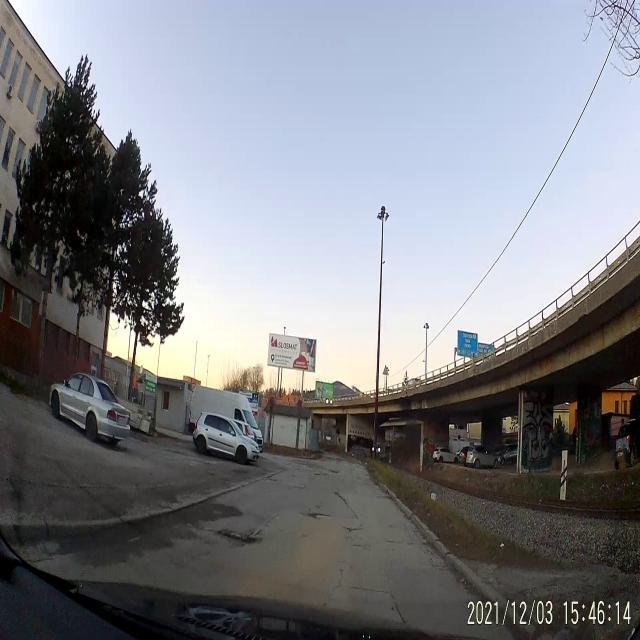Pothole: (218, 526, 262, 548), (304, 508, 333, 522)
